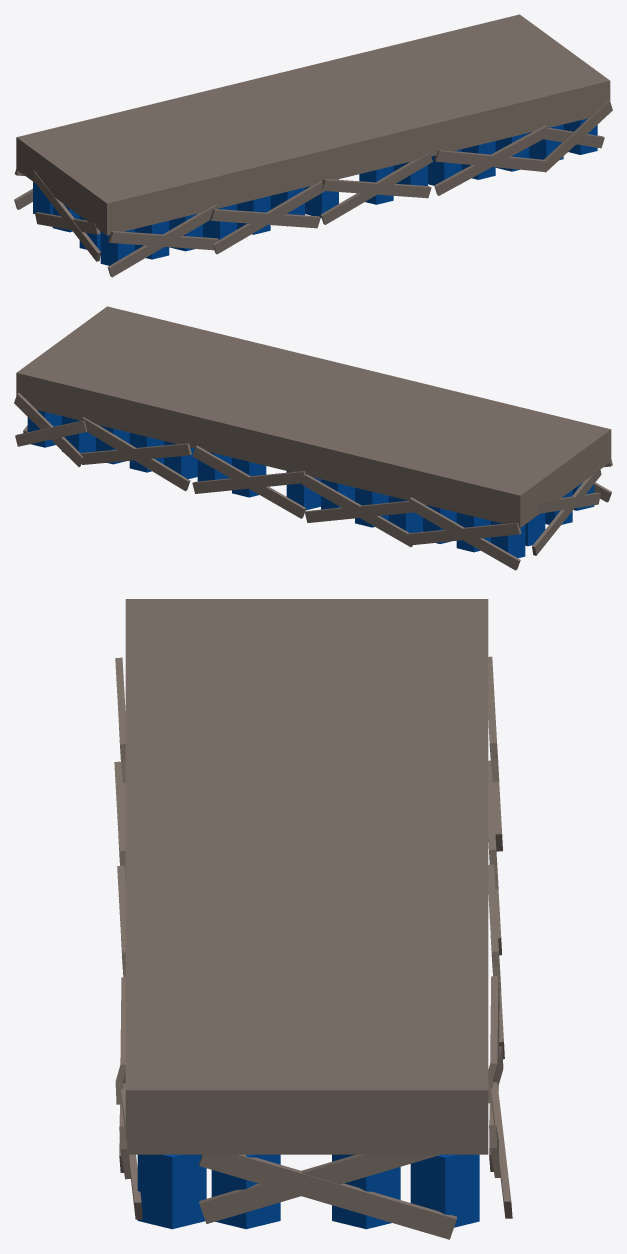
File: CW_Straight.fbx
The picture shows the model from 3 angles, top to bottom: view 1: azimuth 30°, elevation 25°; view 2: azimuth 150°, elevation 25°; view 3: azimuth 270°, elevation 25°; orthographic projection. The views are drawn at different scales.
Visible parts, largest first — view 1: pCube16; view 2: pCube16; view 3: pCube16.
Boxes of the visible parts, x1,y1,x2,y2 form: pCube16: (14, 14, 612, 277); pCube16: (14, 306, 612, 570); pCube16: (114, 599, 512, 1239).
Bounding box in the file's own units: 8.98 × 1.3 × 3.06.
